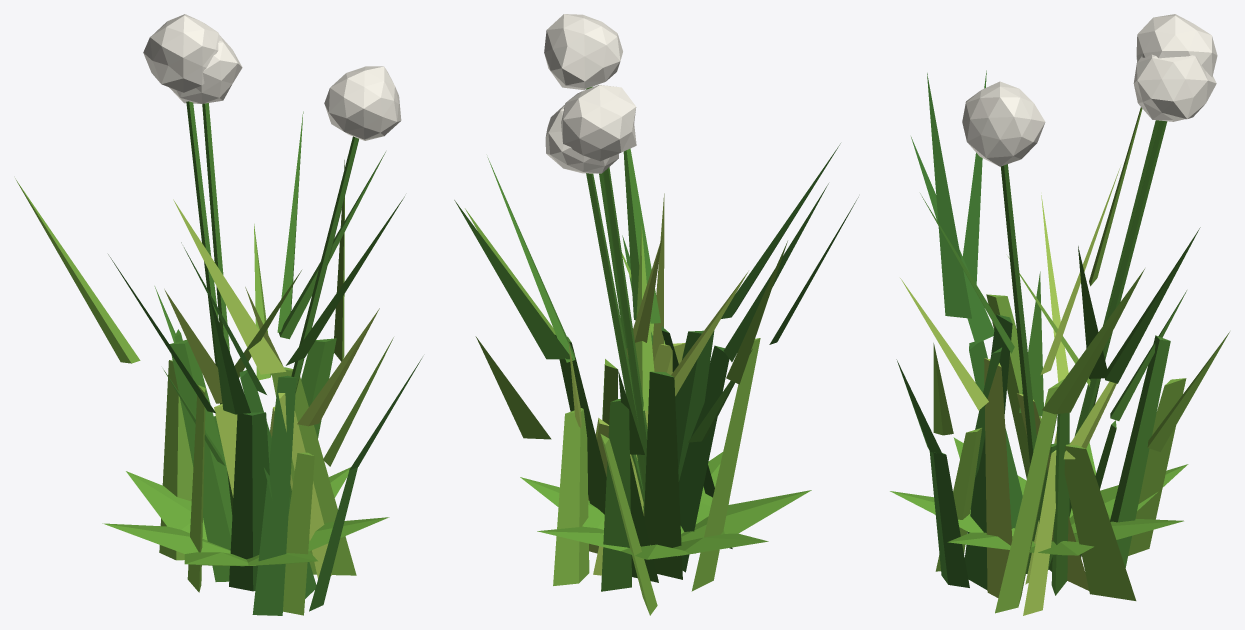
Rendered from hierbajo_grande.glb.
3 views of the same model, side by side, from view 1: azimuth 30°, elevation 25°; view 2: azimuth 150°, elevation 25°; view 3: azimuth 270°, elevation 25° (orthographic). The views are drawn at different scales.
Visible parts, largest first — view 1: hierbajo_grande_hoja_osc, hierbajo_grande_hierba, hierbajo_grande_hierba_osc, hierbajo_grande_petalo_blanco, hierbajo_grande_hierba_clara, hierbajo_grande_hoja; view 2: hierbajo_grande_hierba_osc, hierbajo_grande_hierba, hierbajo_grande_petalo_blanco, hierbajo_grande_hoja_osc, hierbajo_grande_hoja, hierbajo_grande_hierba_clara; view 3: hierbajo_grande_hierba, hierbajo_grande_hierba_osc, hierbajo_grande_hoja_osc, hierbajo_grande_petalo_blanco, hierbajo_grande_hierba_clara, hierbajo_grande_hoja.
Part boxes in pixels (<box>): hierbajo_grande_hoja_osc: <box>108,242,422,615</box>; hierbajo_grande_hierba: <box>15,160,393,615</box>; hierbajo_grande_hierba_osc: <box>154,101,404,581</box>; hierbajo_grande_petalo_blanco: <box>143,14,401,140</box>; hierbajo_grande_hierba_clara: <box>164,199,379,578</box>; hierbajo_grande_hoja: <box>102,467,389,566</box>; hierbajo_grande_hierba_osc: <box>454,86,752,591</box>; hierbajo_grande_hierba: <box>465,208,787,615</box>; hierbajo_grande_petalo_blanco: <box>544,14,636,173</box>; hierbajo_grande_hoja_osc: <box>622,143,858,572</box>; hierbajo_grande_hoja: <box>520,452,811,559</box>; hierbajo_grande_hierba_clara: <box>568,193,748,575</box>; hierbajo_grande_hierba: <box>933,107,1229,613</box>; hierbajo_grande_hierba_osc: <box>920,120,1200,595</box>; hierbajo_grande_hoja_osc: <box>896,70,1022,589</box>; hierbajo_grande_petalo_blanco: <box>962,14,1217,166</box>; hierbajo_grande_hierba_clara: <box>900,167,1120,615</box>; hierbajo_grande_hoja: <box>890,437,1188,555</box>.
Bounding box in the file's own units: 2.22 × 3.3 × 1.85.
